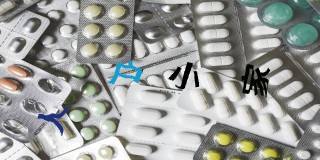人: (37, 108, 69, 135)
家: (240, 63, 271, 98)
小: (168, 62, 200, 91)
户: (108, 59, 142, 86)
